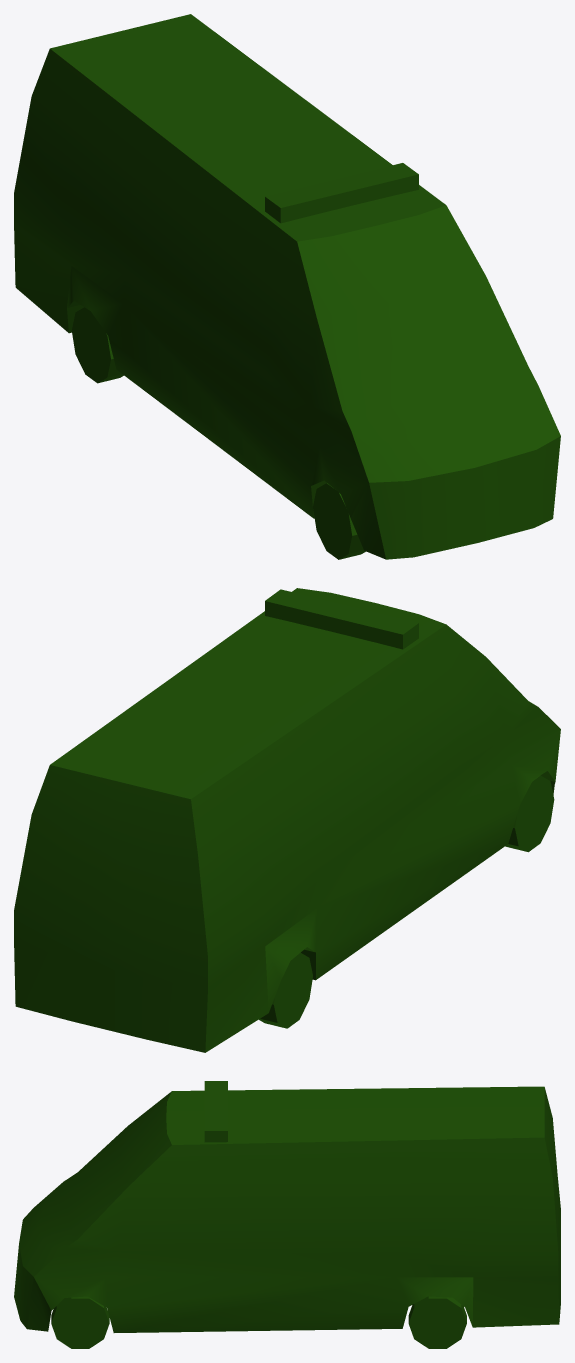
The model's file is Vehicle04A.fbx.
3 views of the same model, one above another, from view 1: azimuth 30°, elevation 25°; view 2: azimuth 150°, elevation 25°; view 3: azimuth 270°, elevation 25° (orthographic). The views are drawn at different scales.
Visible parts, largest first — view 1: Vehicle04A; view 2: Vehicle04A; view 3: Vehicle04A.
Part boxes in pixels (<box>): Vehicle04A: <box>14,14,560,559</box>; Vehicle04A: <box>14,588,560,1052</box>; Vehicle04A: <box>14,1081,560,1348</box>.
Bounding box in the file's own units: 1.63 × 2.01 × 4.82.
